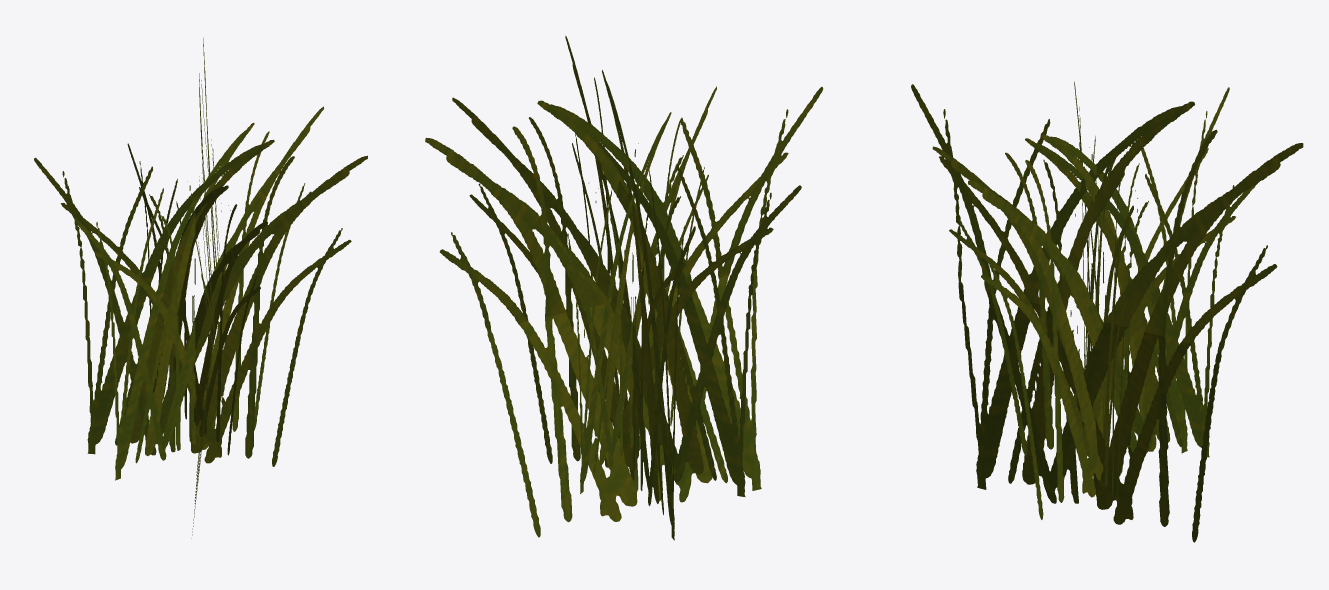
Rendered from SM_grass.glb.
3 renders of one model, left to right at view 1: azimuth 30°, elevation 25°; view 2: azimuth 150°, elevation 25°; view 3: azimuth 270°, elevation 25°, orthographic. The views are drawn at different scales.
Parts seen in each view (by area): view 1: SM_grass; view 2: SM_grass; view 3: SM_grass.
Part boxes in pixels (x1,y1,x2,y2): SM_grass: (34, 38, 367, 538); SM_grass: (425, 35, 823, 540); SM_grass: (911, 81, 1303, 542).
Size of the model in its own units: 0.1606 by 0.1974 by 0.1732.
1 material, 1 textured.
